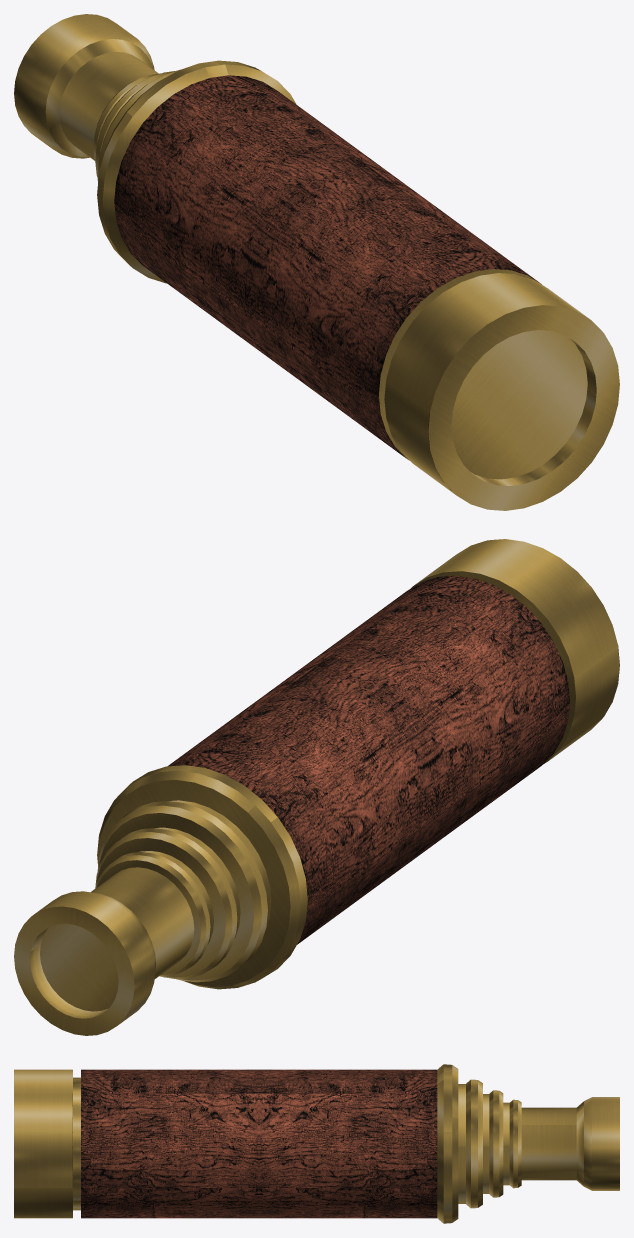
File: Spyglass.fbx
3 views of the same model, one above another, from view 1: azimuth 30°, elevation 25°; view 2: azimuth 150°, elevation 25°; view 3: azimuth 270°, elevation 25° (orthographic). The views are drawn at different scales.
Parts seen in each view (by area): view 1: Handle, Eyepiece, Segment2, Segment3; view 2: Handle, Eyepiece, Segment3, Segment2, Segment1; view 3: Handle, Eyepiece, Segment3, Segment2, Segment1.
Part boxes in pixels (box(x1,y1,x2,y2)): Handle: box(97, 60, 619, 510); Eyepiece: box(14, 14, 158, 160); Segment2: box(95, 70, 176, 177); Segment3: box(97, 70, 178, 182); Handle: box(97, 539, 619, 989); Eyepiece: box(14, 867, 194, 1035); Segment3: box(97, 800, 271, 982); Segment2: box(95, 827, 240, 979); Segment1: box(95, 851, 213, 976); Handle: box(14, 1064, 458, 1223); Eyepiece: box(521, 1097, 619, 1190); Segment3: box(458, 1079, 482, 1208); Segment2: box(483, 1090, 503, 1197); Segment1: box(503, 1099, 521, 1188).
Bounding box in the file's own units: 0.1021 × 0.3876 × 0.1021.
